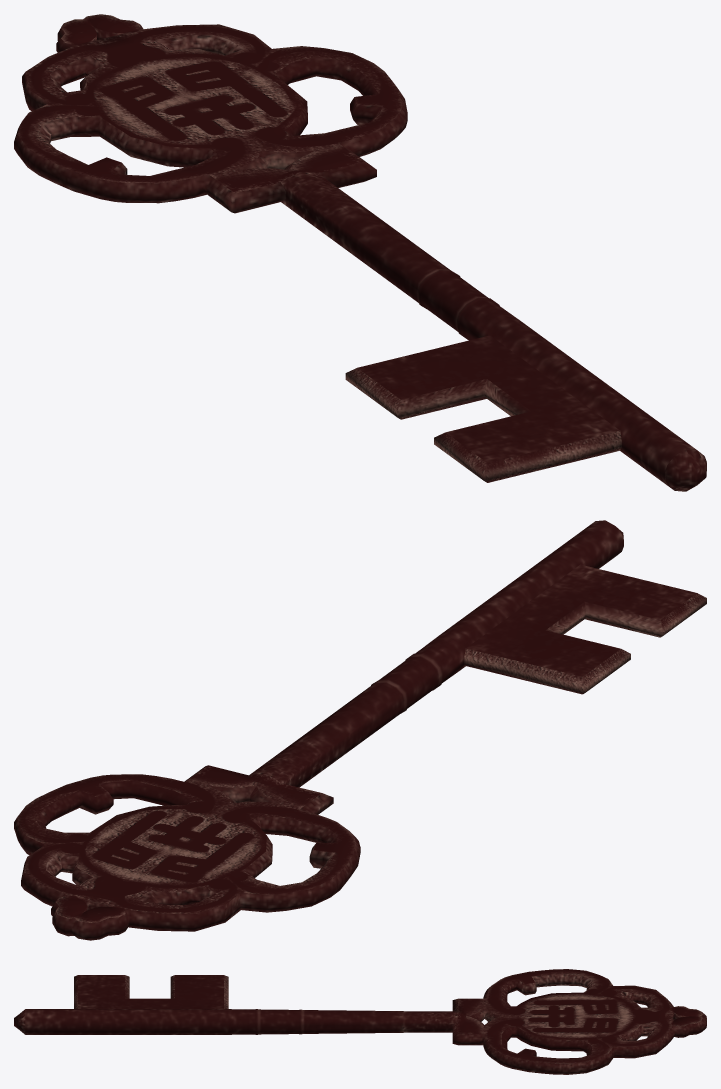
File: key_01.fbx
3 renders of one model, top to bottom at view 1: azimuth 30°, elevation 25°; view 2: azimuth 150°, elevation 25°; view 3: azimuth 270°, elevation 25°, orthographic. The views are drawn at different scales.
Parts seen in each view (by area): view 1: key; view 2: key; view 3: key.
Part boxes in pixels (x1,y1,x2,y2): key: (14, 14, 706, 491); key: (14, 520, 706, 940); key: (14, 969, 706, 1074).
Bounding box in the file's own units: 2.73 × 0.3133 × 8.29.
Materials: 1 (1 with a texture image).
